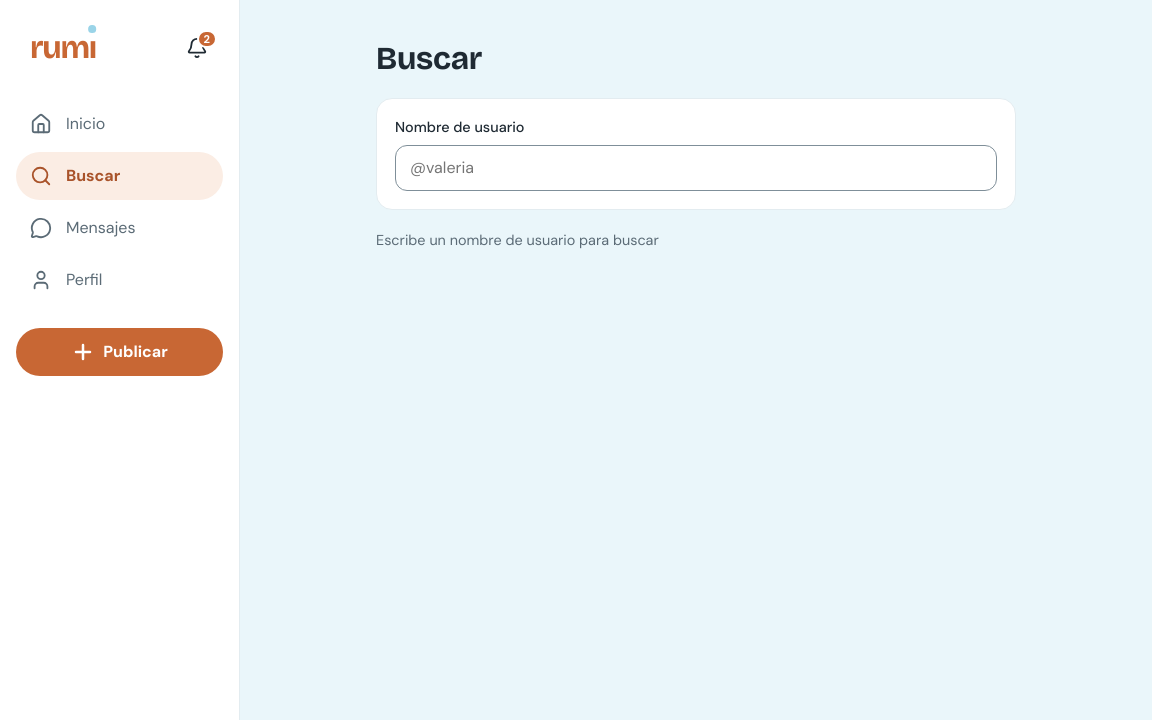
Test: sin resultados
Type "zzz" into the field labelled "Nombre de usuario" at (696, 168), box [395,145,997,191]
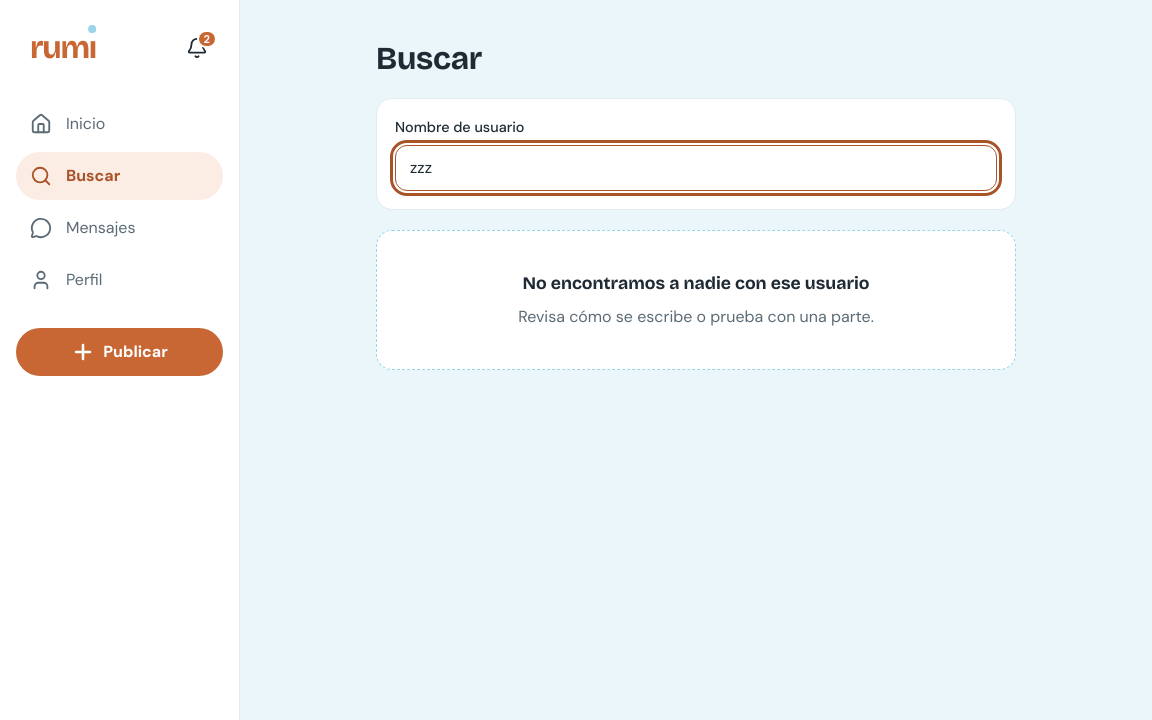
Expected: the text "No encontramos a nadie con ese usuario" is shown, [522,271,870,297]
